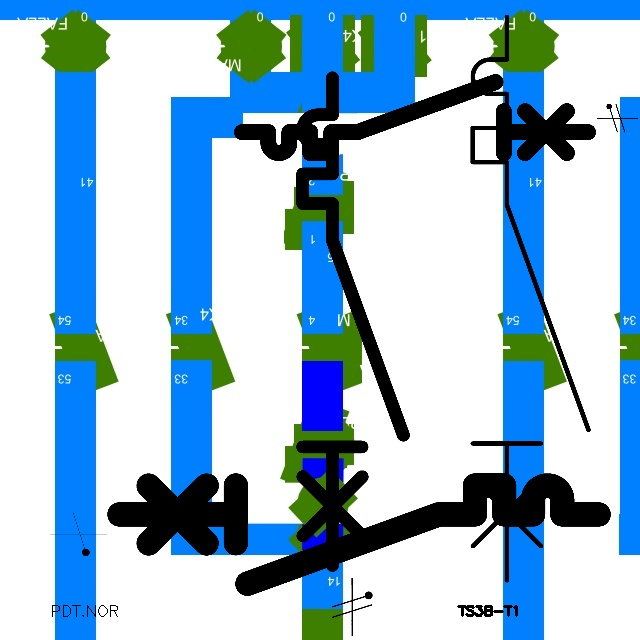interruptor_termomagnetico: (458, 2, 603, 594), (290, 65, 415, 578), (106, 473, 610, 596), (233, 73, 597, 162)
